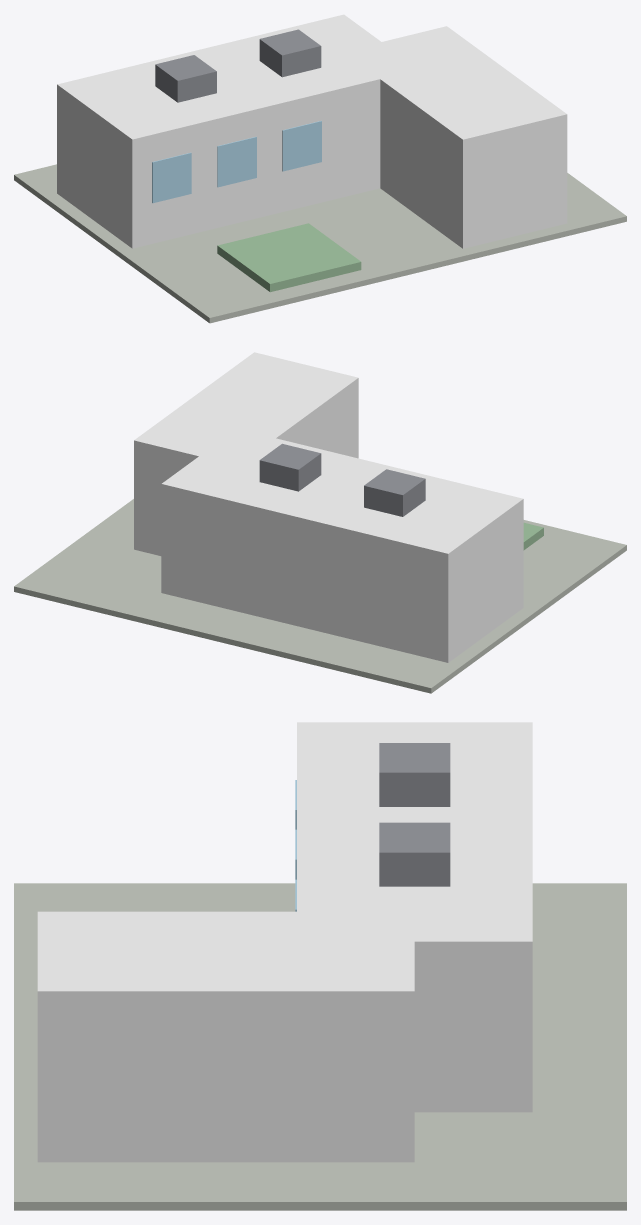
File: lab_block.glb
3 views of the same model, one above another, from view 1: azimuth 30°, elevation 25°; view 2: azimuth 150°, elevation 25°; view 3: azimuth 270°, elevation 25° (orthographic). The views are drawn at different scales.
Bounding box in the file's own units: 1.6 × 0.5 × 1.3.
